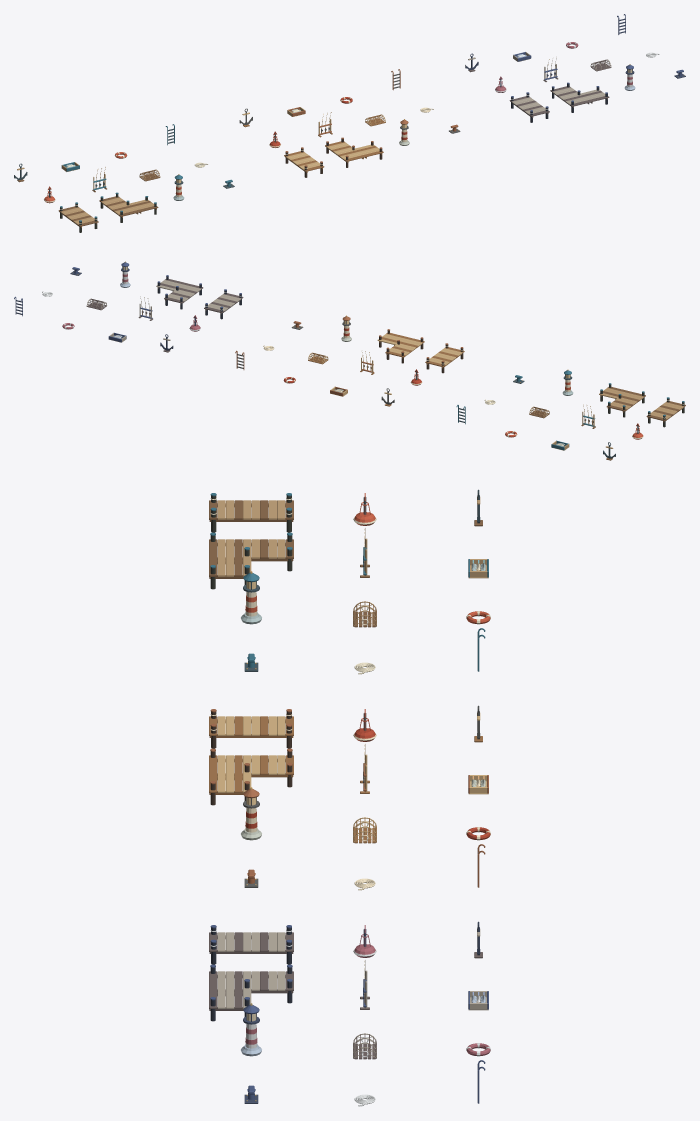
File: tidewatch-harbor-native.glb
3 renders of one model, top to bottom at view 1: azimuth 30°, elevation 25°; view 2: azimuth 150°, elevation 25°; view 3: azimuth 270°, elevation 25°, orthographic. The views are drawn at different scales.
Visible parts, largest first — view 1: Classic__02_Corner_Dock__Body, Warm__02_Corner_Dock__Body, Twilight__02_Corner_Dock__Body, Warm__01_Straight_Dock__Body, Twilight__01_Straight_Dock__Body, Classic__01_Straight_Dock__Body; view 2: Warm__02_Corner_Dock__Body, Twilight__02_Corner_Dock__Body, Classic__02_Corner_Dock__Body, Warm__01_Straight_Dock__Body, Classic__01_Straight_Dock__Body, Twilight__01_Straight_Dock__Body; view 3: Classic__02_Corner_Dock__Body, Twilight__02_Corner_Dock__Body, Warm__02_Corner_Dock__Body, Classic__01_Straight_Dock__Body, Warm__01_Straight_Dock__Body, Twilight__01_Straight_Dock__Body.
Boxes of the visible parts, x1,y1,x2,y2 form: Classic__02_Corner_Dock__Body: [99, 192, 158, 222]; Warm__02_Corner_Dock__Body: [325, 137, 383, 167]; Twilight__02_Corner_Dock__Body: [550, 82, 609, 112]; Warm__01_Straight_Dock__Body: [284, 147, 324, 177]; Twilight__01_Straight_Dock__Body: [509, 92, 549, 122]; Classic__01_Straight_Dock__Body: [58, 202, 98, 232]; Warm__02_Corner_Dock__Body: [377, 329, 424, 363]; Twilight__02_Corner_Dock__Body: [156, 275, 203, 309]; Classic__02_Corner_Dock__Body: [599, 383, 645, 417]; Warm__01_Straight_Dock__Body: [425, 343, 464, 373]; Classic__01_Straight_Dock__Body: [646, 397, 685, 427]; Twilight__01_Straight_Dock__Body: [204, 289, 243, 319]; Classic__02_Corner_Dock__Body: [209, 532, 293, 589]; Twilight__02_Corner_Dock__Body: [209, 964, 293, 1021]; Warm__02_Corner_Dock__Body: [209, 748, 293, 805]; Classic__01_Straight_Dock__Body: [209, 493, 293, 532]; Warm__01_Straight_Dock__Body: [209, 709, 293, 748]; Twilight__01_Straight_Dock__Body: [209, 925, 293, 964].
Size of the model in its own units: 98.58 by 3.83 by 19.86.
3 materials, 3 textured.
